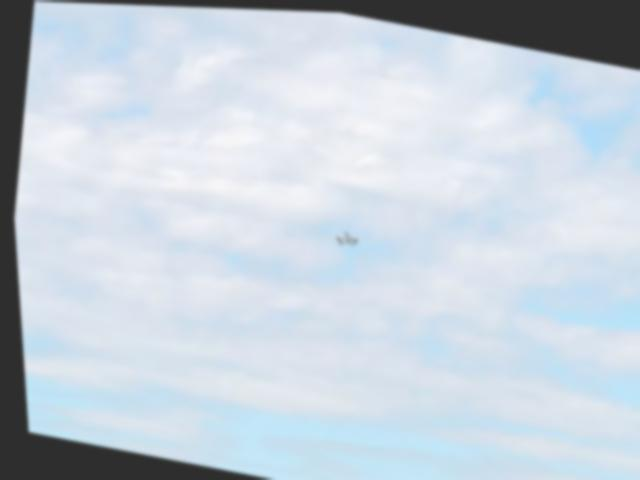uav: (329, 224, 357, 246)
